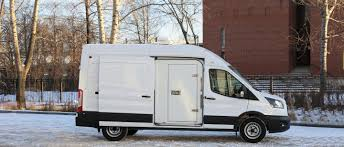van: (73, 42, 290, 142)
